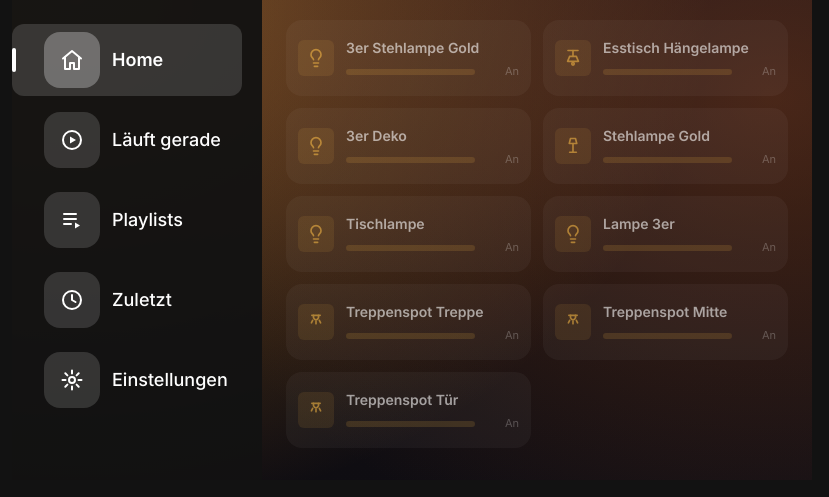
Test case: ContentCarousel › binds the Playlists category to the fetched playlists, title only (bug2.3)
Click the button "Playlists" at {"x": 127, "y": 220}, box [12,184,242,256]
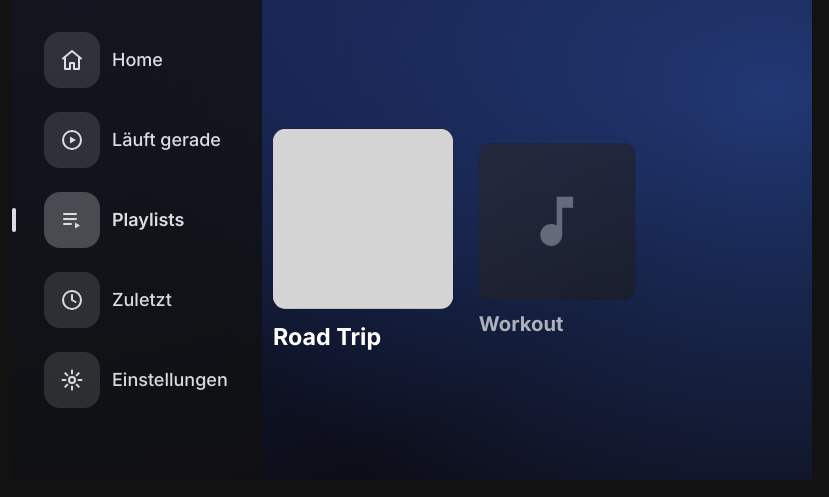
Expected: the heading "Road Trip" is shown, [273,322,381,350]
Expected: the heading "Workout" is shown, [479,312,564,335]
